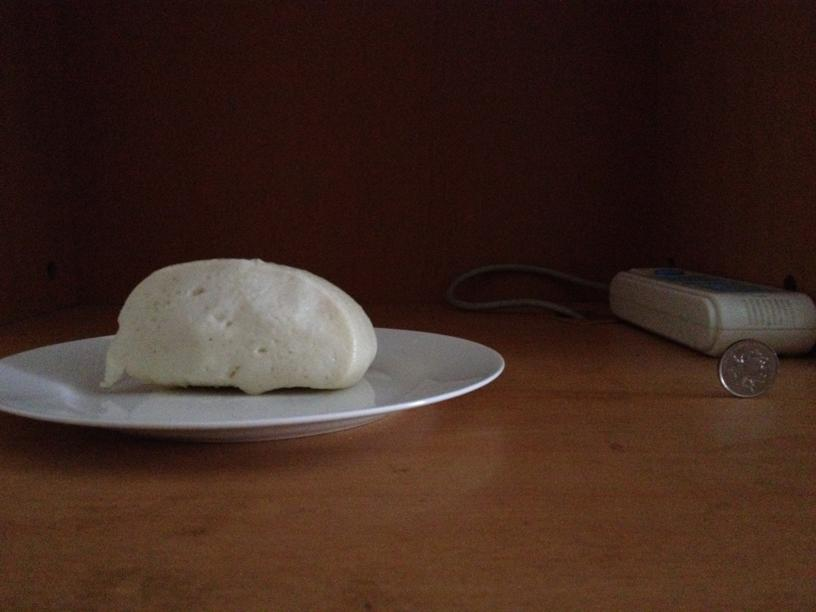bun: (103, 260, 378, 393)
coin: (717, 338, 779, 399)
